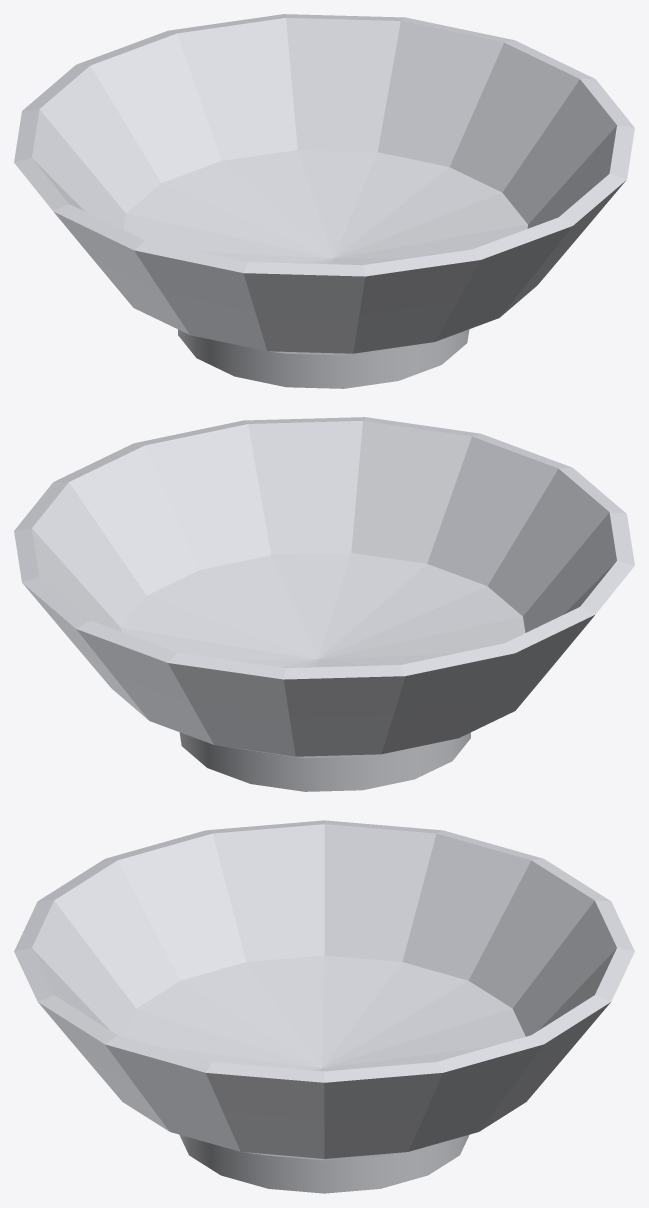
Rendered from SM_bowl_01.fbx.
The picture shows the model from 3 angles, top to bottom: view 1: azimuth 30°, elevation 25°; view 2: azimuth 150°, elevation 25°; view 3: azimuth 270°, elevation 25°; orthographic projection.
Visible parts, largest first — view 1: bowl_01; view 2: bowl_01; view 3: bowl_01.
Part boxes in pixels (x1,y1,x2,y2): bowl_01: (14,14,634,388); bowl_01: (14,417,634,791); bowl_01: (14,820,634,1193).
Size of the model in its own units: 55.81 by 18.23 by 55.81.
